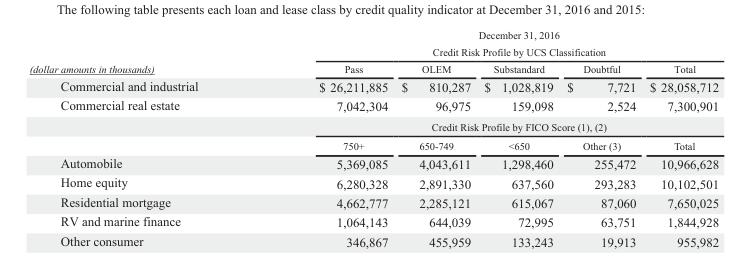table: (28, 29, 718, 248)
table column: (28, 29, 257, 248), (257, 29, 394, 248), (476, 29, 559, 248), (559, 29, 642, 248), (394, 29, 476, 248), (642, 29, 718, 248)
table column header: (28, 29, 718, 76)
table row: (28, 29, 718, 59), (28, 95, 718, 116), (28, 116, 718, 136), (28, 172, 718, 192), (28, 211, 718, 231), (28, 76, 718, 95), (28, 153, 718, 172), (28, 192, 718, 211), (28, 59, 718, 76), (28, 136, 718, 153), (28, 231, 718, 248)
table spanning cell: (257, 29, 718, 59), (28, 29, 257, 76), (257, 116, 718, 136)
